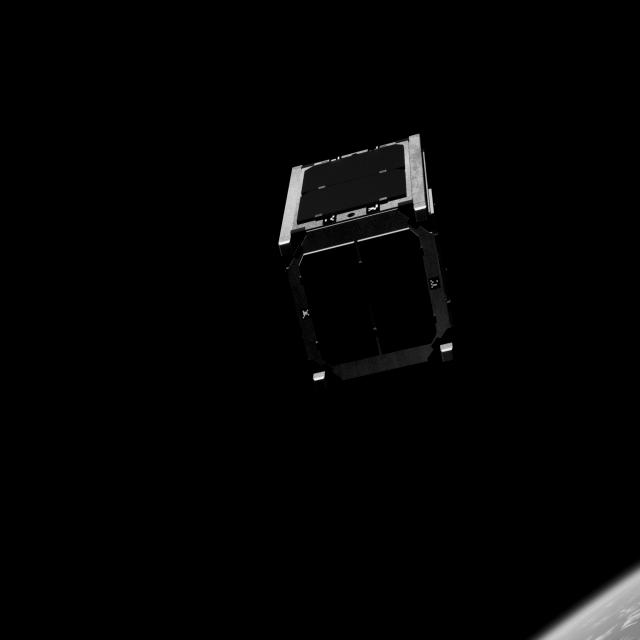satellite: (269, 125, 461, 400)
